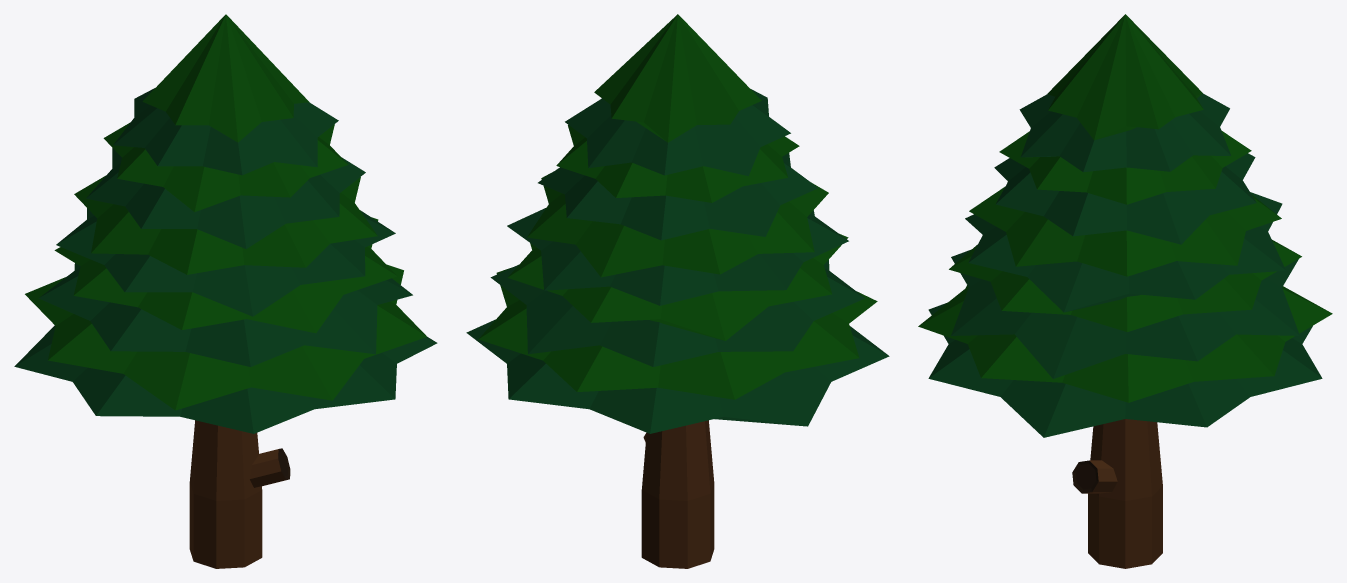
File: Pine-Tree-1.fbx
3 views of the same model, side by side, from view 1: azimuth 30°, elevation 25°; view 2: azimuth 150°, elevation 25°; view 3: azimuth 270°, elevation 25° (orthographic).
Visible parts, largest first — view 1: Cylinder.006; view 2: Cylinder.006; view 3: Cylinder.006.
Boxes of the visible parts, bbox=[...] form: Cylinder.006: bbox=[14, 14, 437, 568]; Cylinder.006: bbox=[466, 14, 889, 568]; Cylinder.006: bbox=[918, 14, 1332, 568].
Size of the model in its own units: 852 by 1221 by 852.
